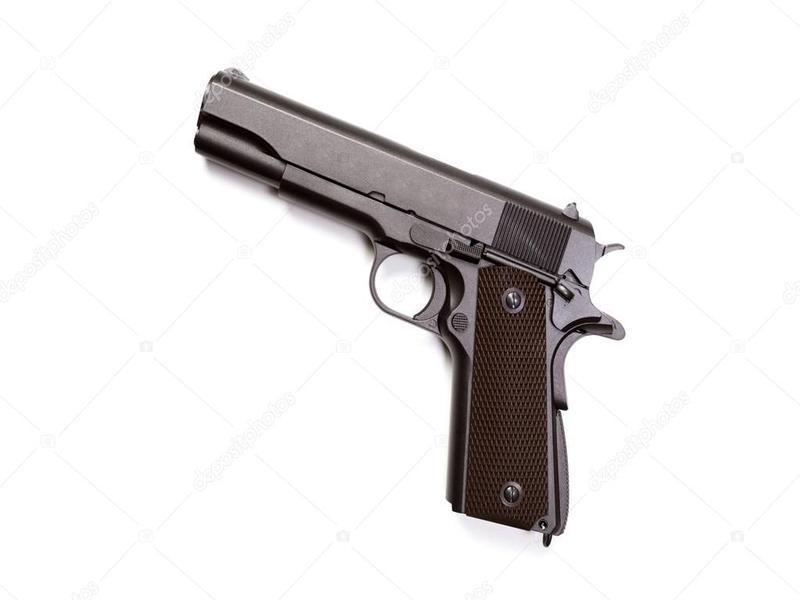GUN: (187, 62, 632, 552)
